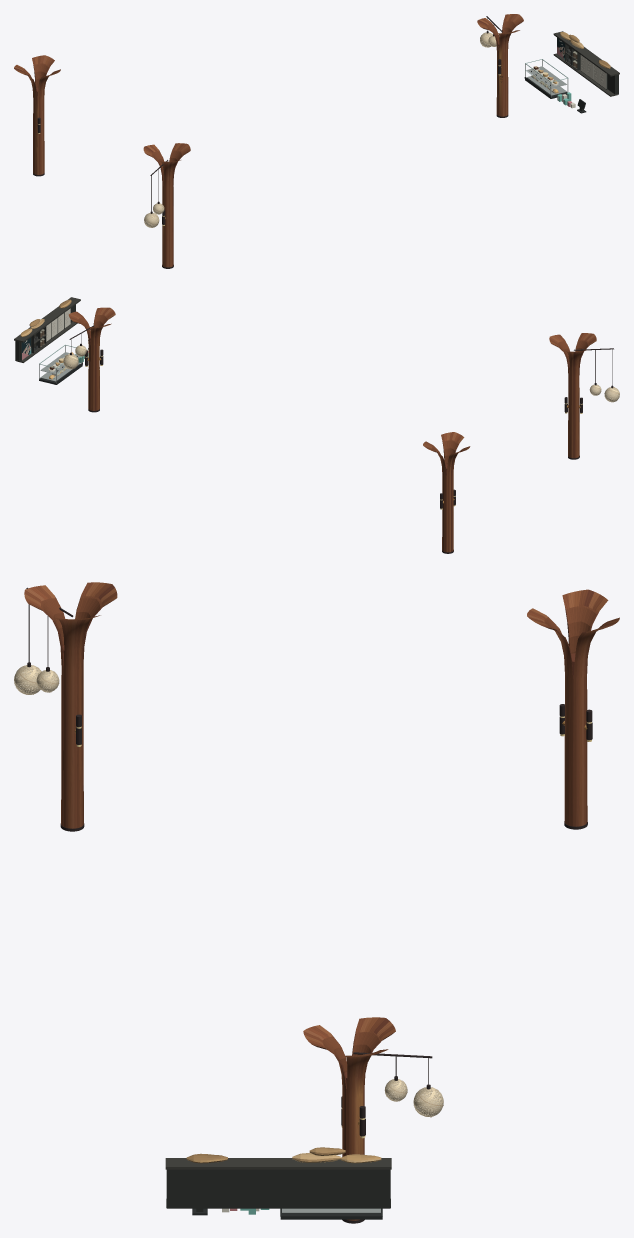
File: coffee-trees.glb
3 renders of one model, top to bottom at view 1: azimuth 30°, elevation 25°; view 2: azimuth 150°, elevation 25°; view 3: azimuth 270°, elevation 25°, orthographic. The views are drawn at different scales.
Parts seen in each view (by area): view 1: Surface; view 2: Surface; view 3: Surface.
Boxes of the visible parts, x1,y1,x2,y2 form: Surface: [14, 14, 619, 268]; Surface: [14, 297, 619, 553]; Surface: [14, 582, 619, 1223].
Bounding box in the file's own units: 24.87 × 5.4 × 12.94.
1 material, 1 textured.
